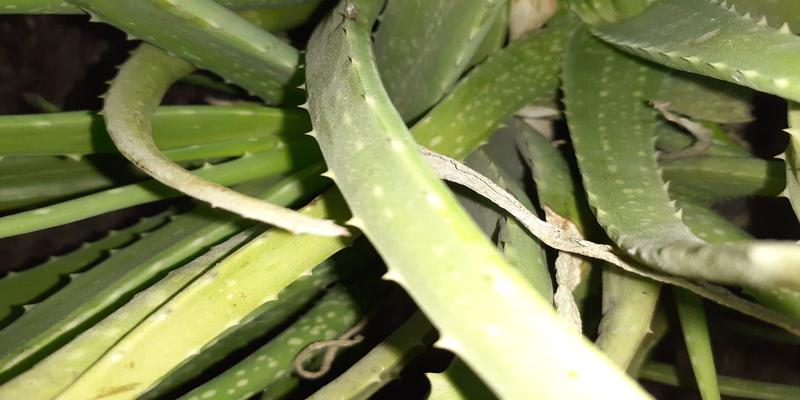Aloevera: (109, 15, 747, 365)
